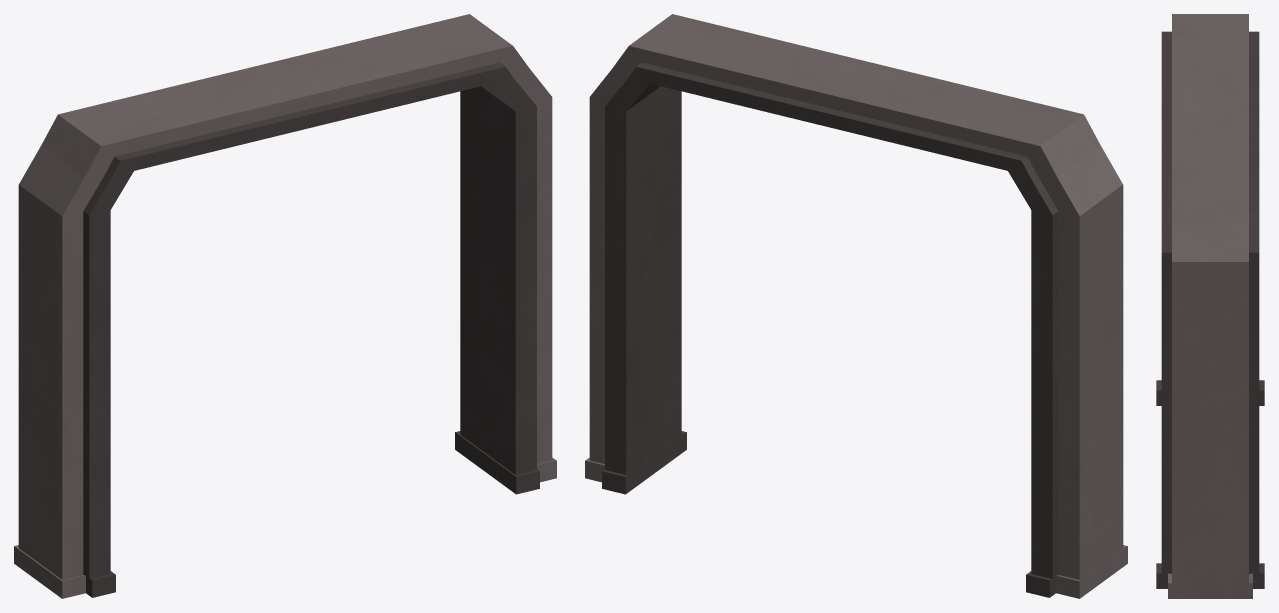
Rendered from DoorFrame.glb.
The picture shows the model from 3 angles, left to right: view 1: azimuth 30°, elevation 25°; view 2: azimuth 150°, elevation 25°; view 3: azimuth 270°, elevation 25°; orthographic projection. The views are drawn at different scales.
Visible parts, largest first — view 1: DoorFrame; view 2: DoorFrame; view 3: DoorFrame.
Part boxes in pixels (<box>): DoorFrame: <box>14,14,556,598</box>; DoorFrame: <box>585,14,1127,598</box>; DoorFrame: <box>1156,14,1264,598</box>.
Size of the model in its own units: 6.99 by 5.95 by 1.5.
Materials: 1 (1 with a texture image).
